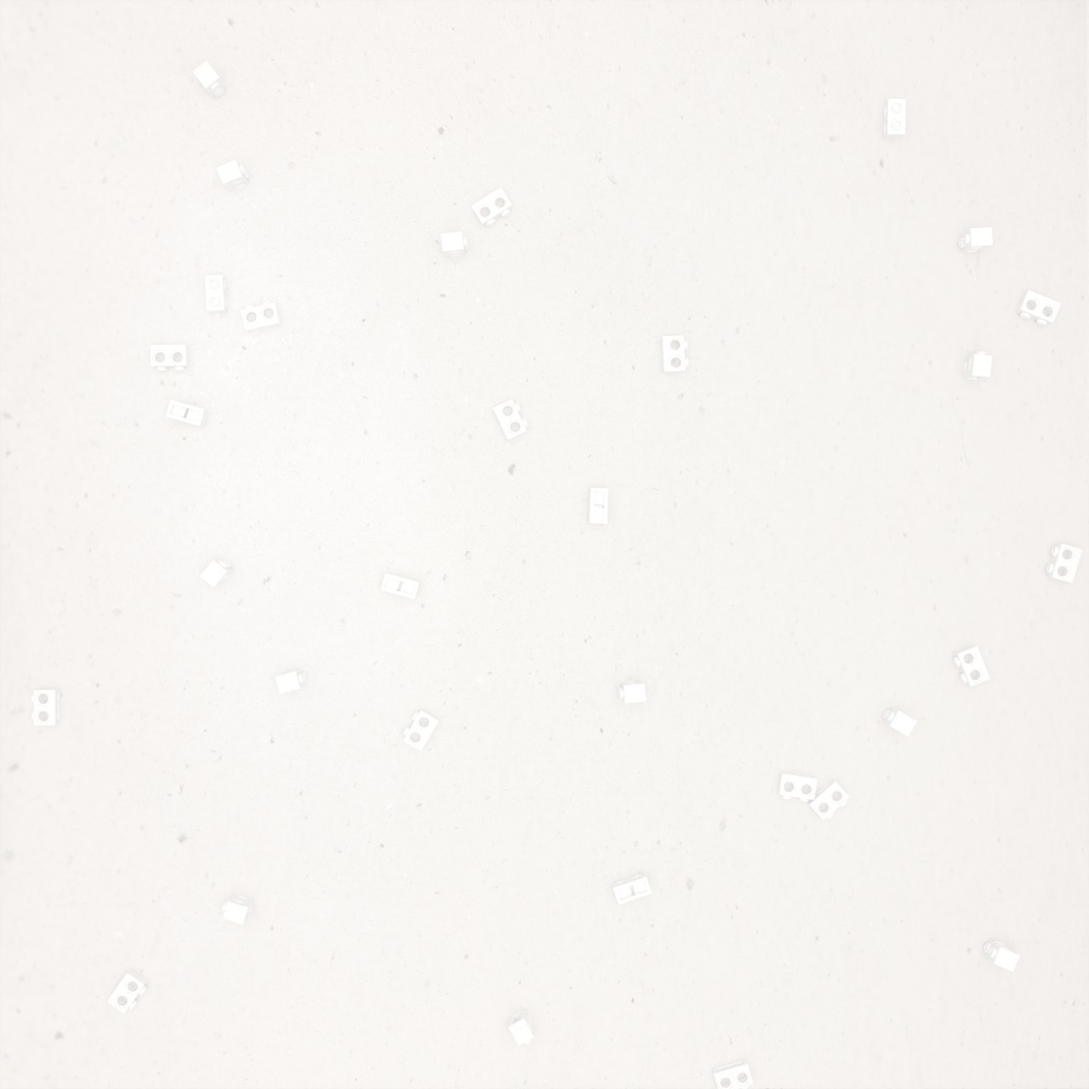lego: (107, 968, 149, 1014), (806, 779, 850, 821), (1015, 290, 1061, 326), (471, 187, 512, 227), (402, 709, 440, 752), (953, 645, 991, 687), (493, 399, 529, 441), (1046, 544, 1082, 583), (192, 60, 227, 99), (240, 301, 282, 333), (612, 872, 652, 905), (712, 1058, 754, 1089), (983, 938, 1020, 972), (777, 771, 817, 802), (166, 400, 209, 428), (216, 159, 250, 192), (31, 688, 61, 725), (380, 573, 421, 600), (221, 893, 255, 925), (150, 344, 190, 371), (661, 335, 688, 374), (882, 707, 917, 737), (508, 1008, 534, 1046), (200, 559, 234, 588), (883, 99, 906, 140), (205, 275, 229, 314), (959, 227, 993, 253), (963, 351, 992, 381), (275, 668, 307, 694), (441, 231, 469, 258), (589, 488, 608, 524), (619, 680, 646, 703)
